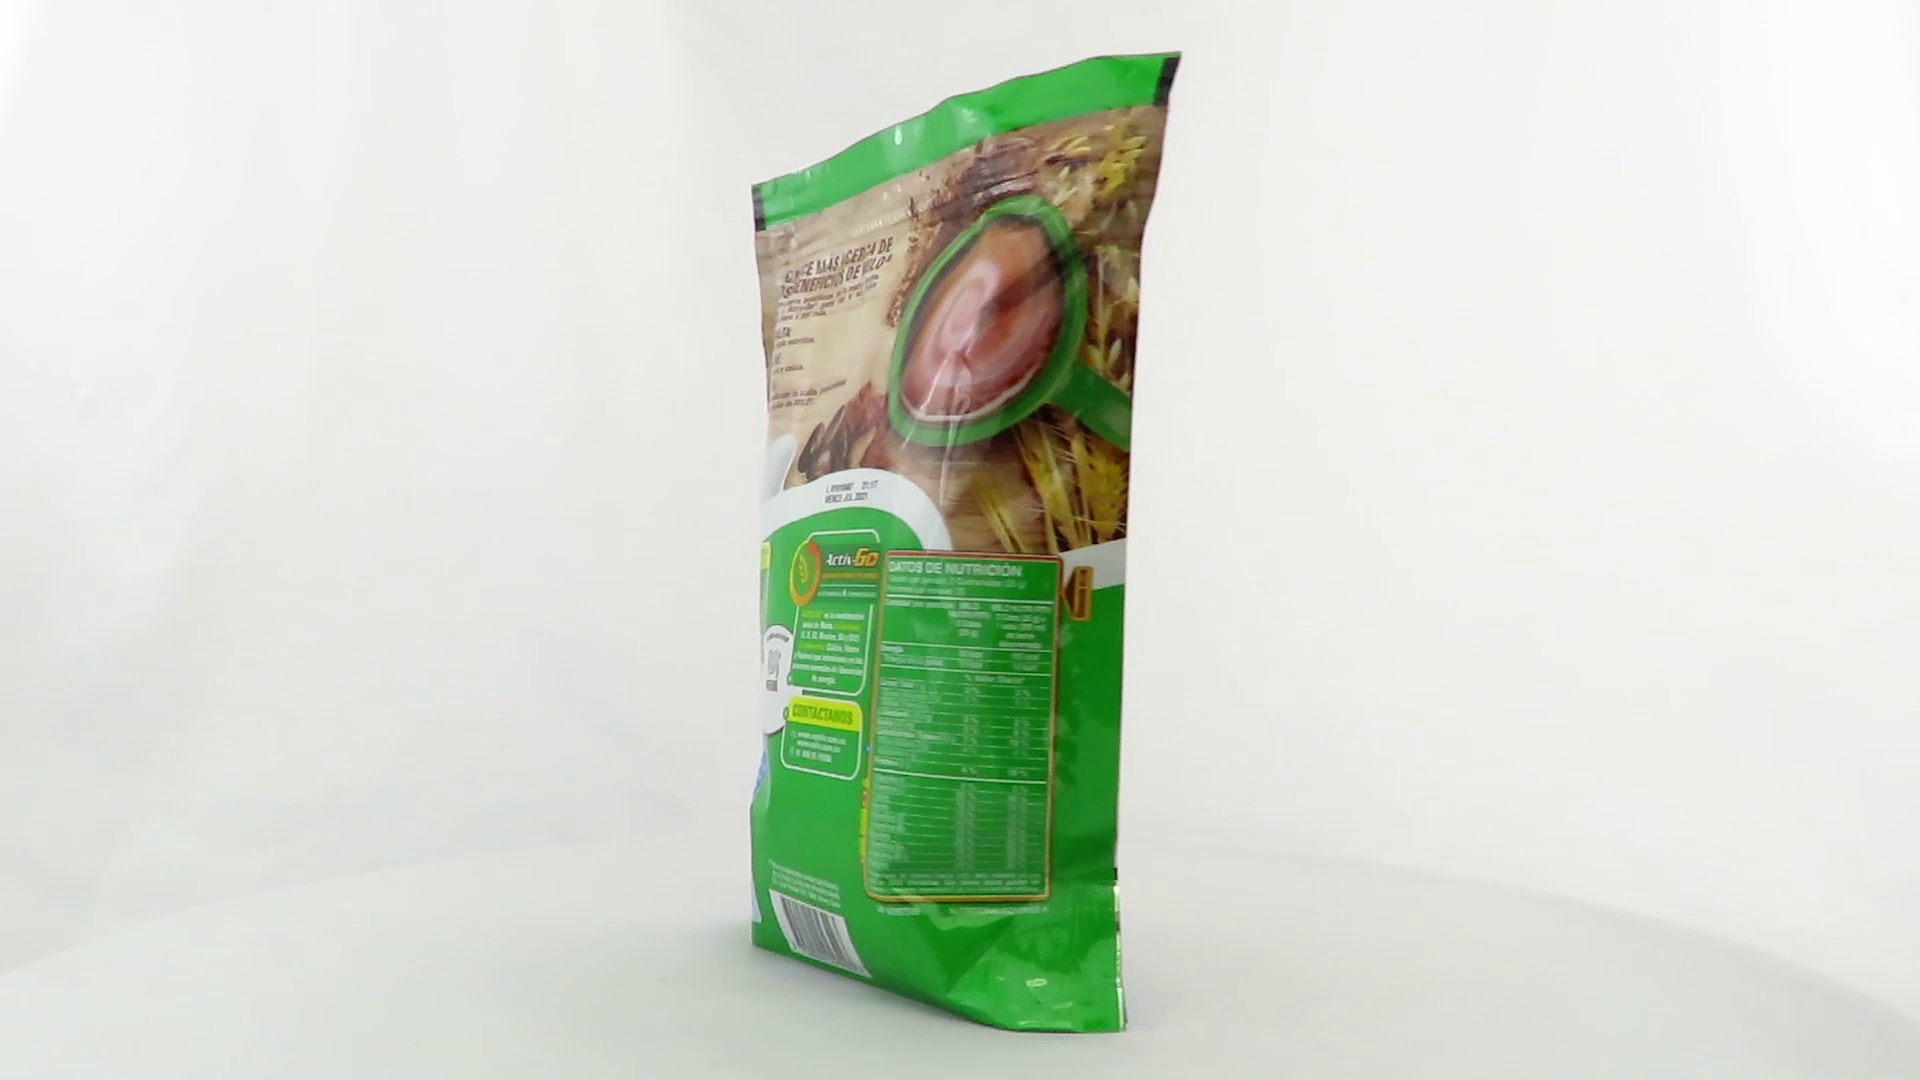COL0170205DYP50000: (744, 46, 1188, 1040)
